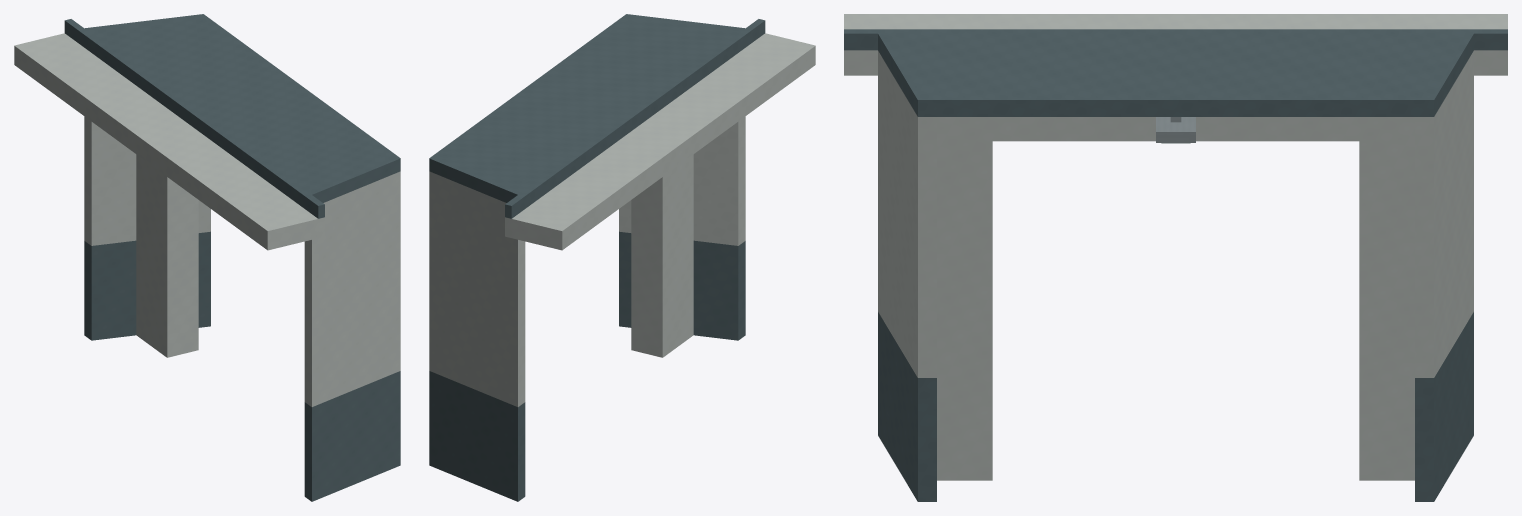
The model's file is AST-STF-G3-024.glb.
3 renders of one model, left to right at view 1: azimuth 30°, elevation 25°; view 2: azimuth 150°, elevation 25°; view 3: azimuth 270°, elevation 25°, orthographic. The views are drawn at different scales.
Visible parts, largest first — view 1: screen_wall_staff_white_paint_uniforms_receiver, overhead_staff_bluegrey_paint_uniforms_receiver, screen_wall_staff_bluegrey_paint_uniforms_receiver, door_receiver_staff_white_paint_uniforms_receiver; view 2: screen_wall_staff_white_paint_uniforms_receiver, overhead_staff_bluegrey_paint_uniforms_receiver, screen_wall_staff_bluegrey_paint_uniforms_receiver, door_receiver_staff_white_paint_uniforms_receiver; view 3: overhead_staff_bluegrey_paint_uniforms_receiver, door_receiver_staff_white_paint_uniforms_receiver, screen_wall_staff_white_paint_uniforms_receiver, screen_wall_staff_bluegrey_paint_uniforms_receiver, lighting_fixture_staff_zinc_uniforms_receiver.
Part boxes in pixels (x1,y1,x2,y2): screen_wall_staff_white_paint_uniforms_receiver: [14, 33, 400, 406]; overhead_staff_bluegrey_paint_uniforms_receiver: [64, 14, 400, 218]; screen_wall_staff_bluegrey_paint_uniforms_receiver: [84, 231, 400, 501]; door_receiver_staff_white_paint_uniforms_receiver: [136, 154, 198, 357]; screen_wall_staff_white_paint_uniforms_receiver: [429, 33, 815, 406]; overhead_staff_bluegrey_paint_uniforms_receiver: [429, 14, 765, 218]; screen_wall_staff_bluegrey_paint_uniforms_receiver: [429, 231, 745, 501]; door_receiver_staff_white_paint_uniforms_receiver: [631, 154, 693, 357]; overhead_staff_bluegrey_paint_uniforms_receiver: [844, 29, 1507, 116]; door_receiver_staff_white_paint_uniforms_receiver: [937, 117, 1414, 480]; screen_wall_staff_white_paint_uniforms_receiver: [844, 14, 1507, 377]; screen_wall_staff_bluegrey_paint_uniforms_receiver: [878, 312, 1473, 501]; lighting_fixture_staff_zinc_uniforms_receiver: [1156, 117, 1195, 142].
Bounding box in the file's own units: 1.98 × 3.34 × 5.
Materials: 4 (4 with a texture image).
